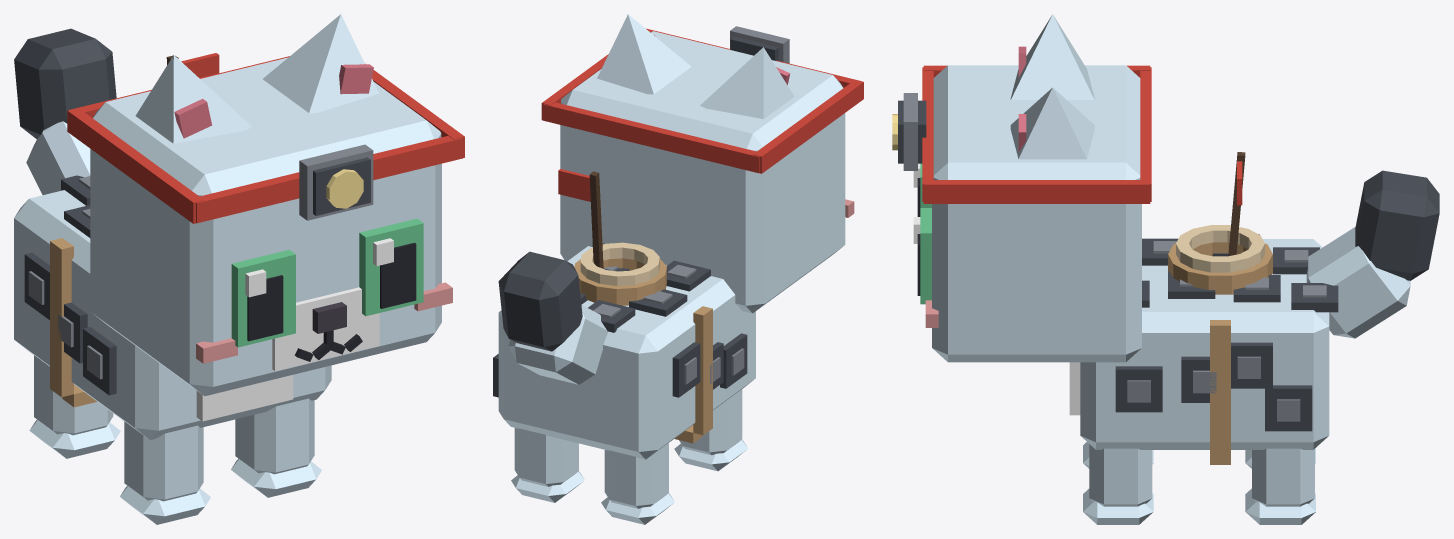
The model's file is CatCafe_Cat_SnowLeopard.glb.
3 views of the same model, side by side, from view 1: azimuth 30°, elevation 25°; view 2: azimuth 150°, elevation 25°; view 3: azimuth 270°, elevation 25° (orthographic). The views are drawn at different scales.
Visible parts, largest first — view 1: CatCafe_Cat_SnowLeopard_Head, CatCafe_Cat_SnowLeopard_Body, CatCafe_Cat_SnowLeopard_Prop2, CatCafe_Cat_SnowLeopard_Tail, CatCafe_Cat_SnowLeopard_LegF2, CatCafe_Cat_SnowLeopard_LegF1, CatCafe_Cat_SnowLeopard_EarL, CatCafe_Cat_SnowLeopard_Eye2, CatCafe_Cat_SnowLeopard_Eye1, CatCafe_Cat_SnowLeopard_EarR, CatCafe_Cat_SnowLeopard_LegB2, CatCafe_Cat_SnowLeopard_Prop (+1 smaller); view 2: CatCafe_Cat_SnowLeopard_Head, CatCafe_Cat_SnowLeopard_Body, CatCafe_Cat_SnowLeopard_Tail, CatCafe_Cat_SnowLeopard_Prop2, CatCafe_Cat_SnowLeopard_Prop, CatCafe_Cat_SnowLeopard_LegB2, CatCafe_Cat_SnowLeopard_EarL, CatCafe_Cat_SnowLeopard_LegB1, CatCafe_Cat_SnowLeopard_EarR, CatCafe_Cat_SnowLeopard_LegF2; view 3: CatCafe_Cat_SnowLeopard_Head, CatCafe_Cat_SnowLeopard_Body, CatCafe_Cat_SnowLeopard_Tail, CatCafe_Cat_SnowLeopard_Prop2, CatCafe_Cat_SnowLeopard_Prop, CatCafe_Cat_SnowLeopard_LegF1, CatCafe_Cat_SnowLeopard_LegB1, CatCafe_Cat_SnowLeopard_EarL, CatCafe_Cat_SnowLeopard_EarR, CatCafe_Cat_SnowLeopard_Eye1.
Boxes of the visible parts, x1,y1,x2,y2 form: CatCafe_Cat_SnowLeopard_Head: (90, 57, 452, 396); CatCafe_Cat_SnowLeopard_Body: (14, 175, 331, 439); CatCafe_Cat_SnowLeopard_Prop2: (67, 56, 464, 223); CatCafe_Cat_SnowLeopard_Tail: (14, 28, 116, 194); CatCafe_Cat_SnowLeopard_LegF2: (120, 421, 210, 524); CatCafe_Cat_SnowLeopard_LegF1: (231, 398, 321, 497); CatCafe_Cat_SnowLeopard_EarL: (263, 14, 379, 113); CatCafe_Cat_SnowLeopard_Eye2: (231, 249, 295, 347); CatCafe_Cat_SnowLeopard_Eye1: (359, 218, 423, 316); CatCafe_Cat_SnowLeopard_EarR: (135, 55, 251, 143); CatCafe_Cat_SnowLeopard_LegB2: (29, 355, 120, 458); CatCafe_Cat_SnowLeopard_Prop: (50, 53, 219, 407); CatCafe_Cat_SnowLeopard_Head: (560, 31, 854, 313); CatCafe_Cat_SnowLeopard_Body: (493, 243, 755, 459); CatCafe_Cat_SnowLeopard_Tail: (498, 251, 608, 384); CatCafe_Cat_SnowLeopard_Prop2: (541, 26, 863, 173); CatCafe_Cat_SnowLeopard_Prop: (558, 169, 712, 443); CatCafe_Cat_SnowLeopard_LegB2: (601, 443, 674, 524); CatCafe_Cat_SnowLeopard_EarL: (597, 14, 691, 94); CatCafe_Cat_SnowLeopard_LegB1: (511, 428, 584, 502); CatCafe_Cat_SnowLeopard_EarR: (700, 47, 794, 119); CatCafe_Cat_SnowLeopard_LegF2: (674, 389, 747, 471); CatCafe_Cat_SnowLeopard_Head: (925, 65, 1141, 362); CatCafe_Cat_SnowLeopard_Body: (1069, 234, 1338, 449); CatCafe_Cat_SnowLeopard_Tail: (1306, 170, 1439, 338); CatCafe_Cat_SnowLeopard_Prop2: (898, 65, 1151, 203); CatCafe_Cat_SnowLeopard_Prop: (1168, 152, 1272, 464); CatCafe_Cat_SnowLeopard_LegF1: (1083, 444, 1153, 524); CatCafe_Cat_SnowLeopard_LegB1: (1245, 448, 1315, 524); CatCafe_Cat_SnowLeopard_EarL: (1010, 87, 1094, 159); CatCafe_Cat_SnowLeopard_EarR: (1010, 14, 1094, 99); CatCafe_Cat_SnowLeopard_Eye1: (913, 208, 931, 304).
Bounding box in the file's own units: 1.08 × 1.86 × 2.09.
Materials: 1 (1 with a texture image).
